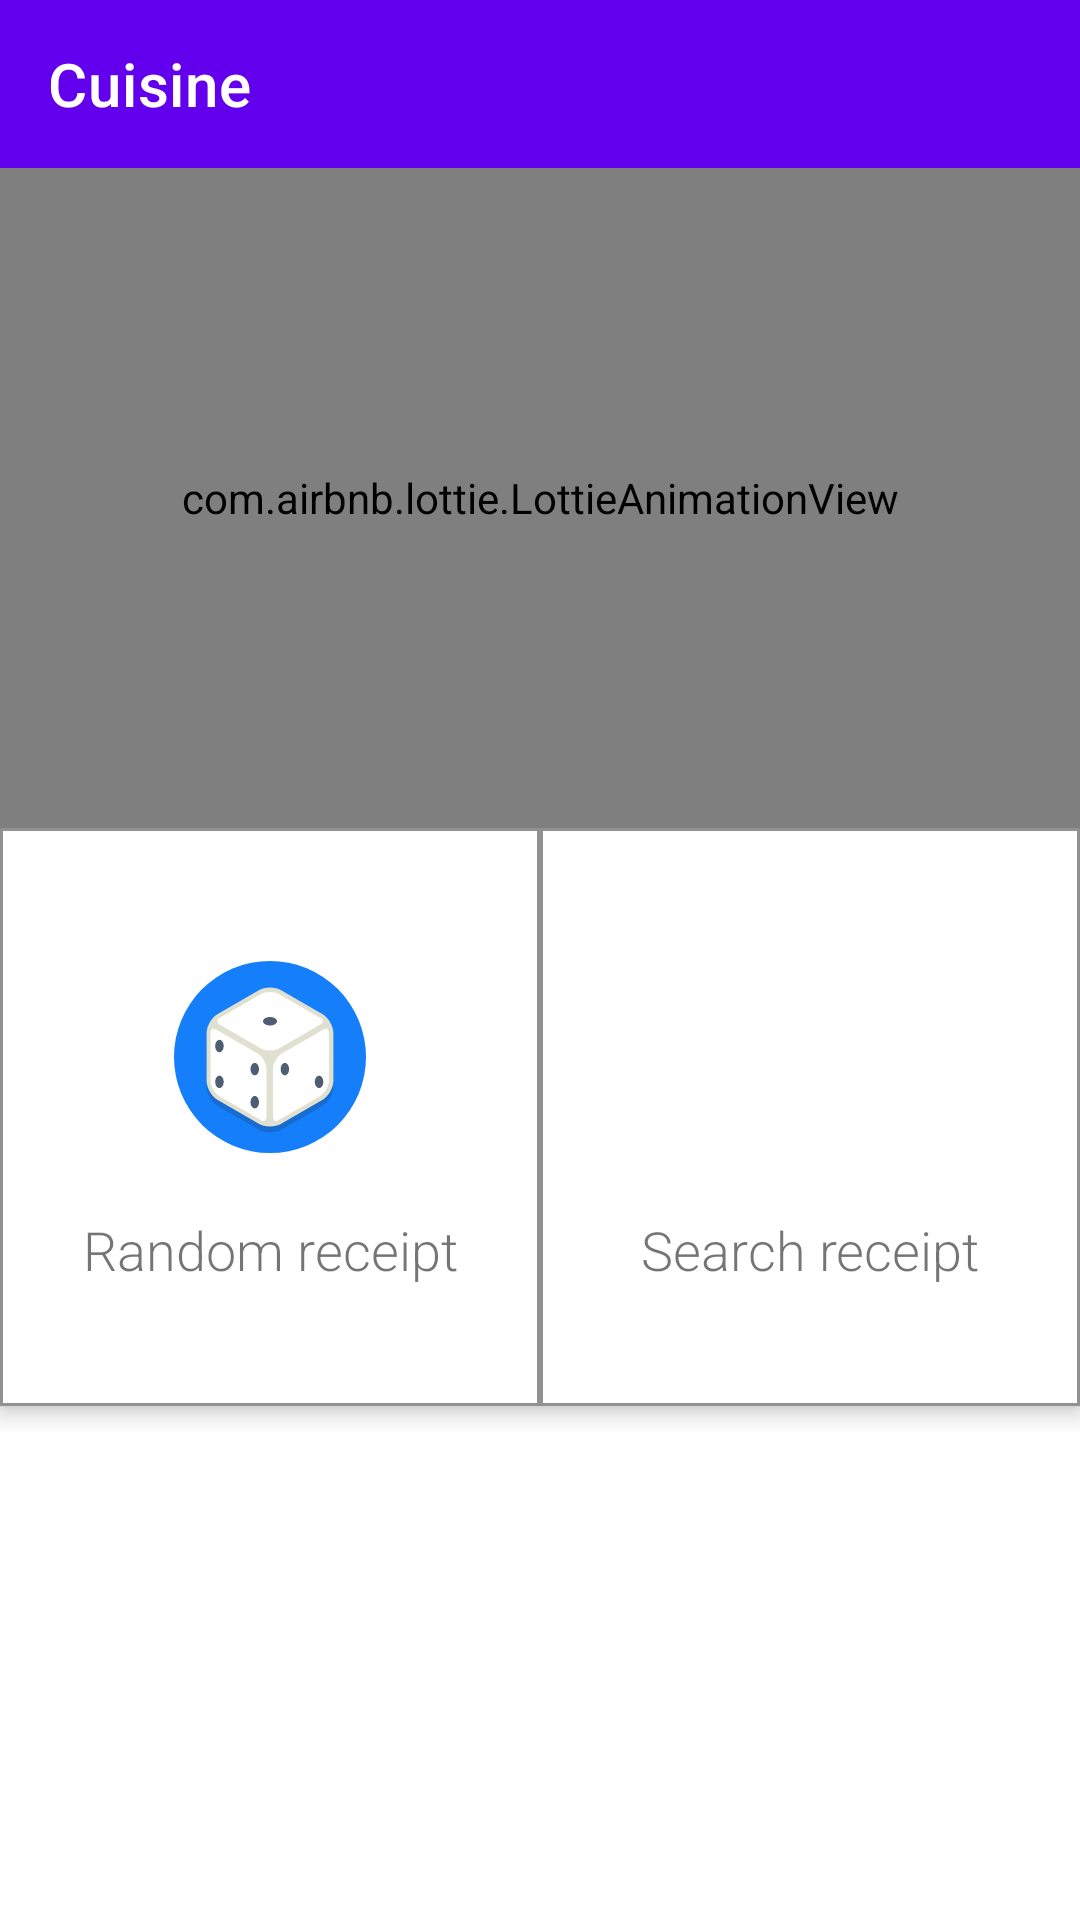

Named icons in this screenshot (1080×1920) and their centers, (x,y):
dice: (270,1057)
